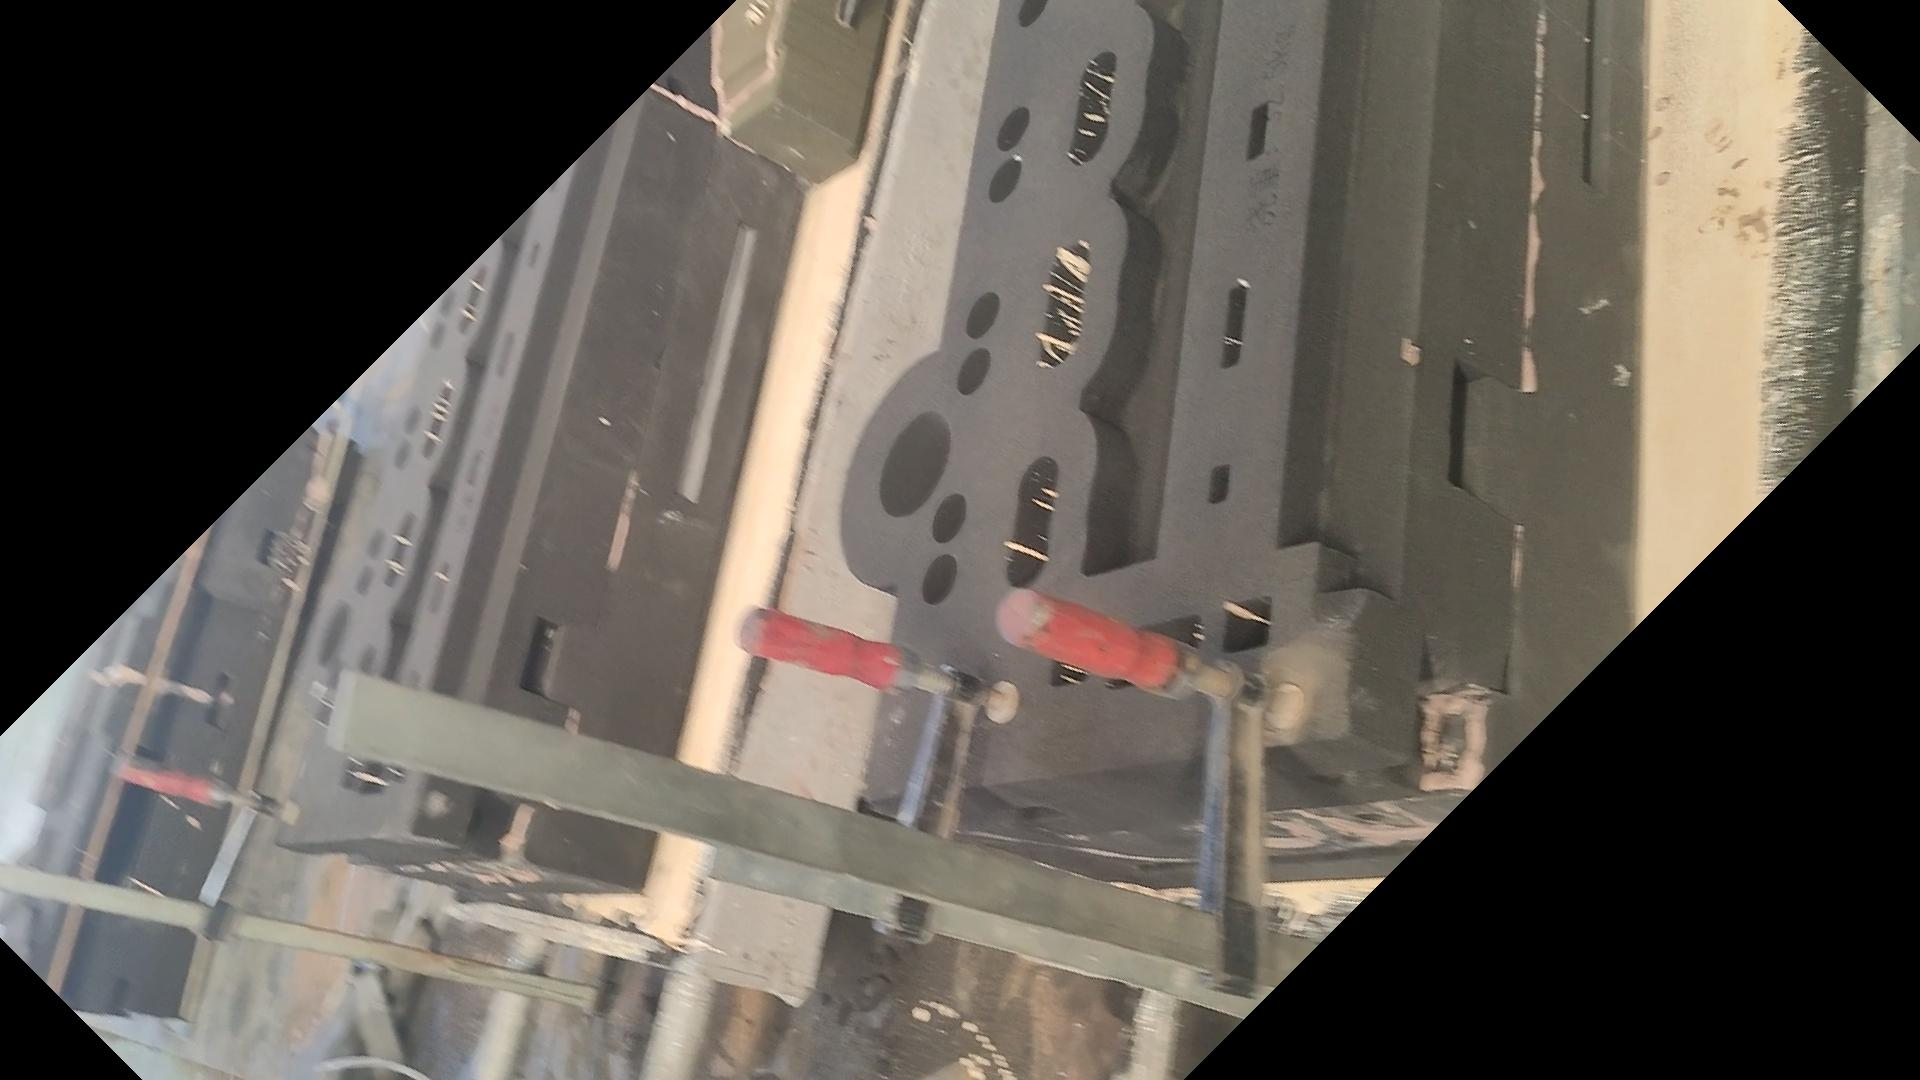pouring hole: (878, 411, 952, 517), (311, 603, 349, 666)
